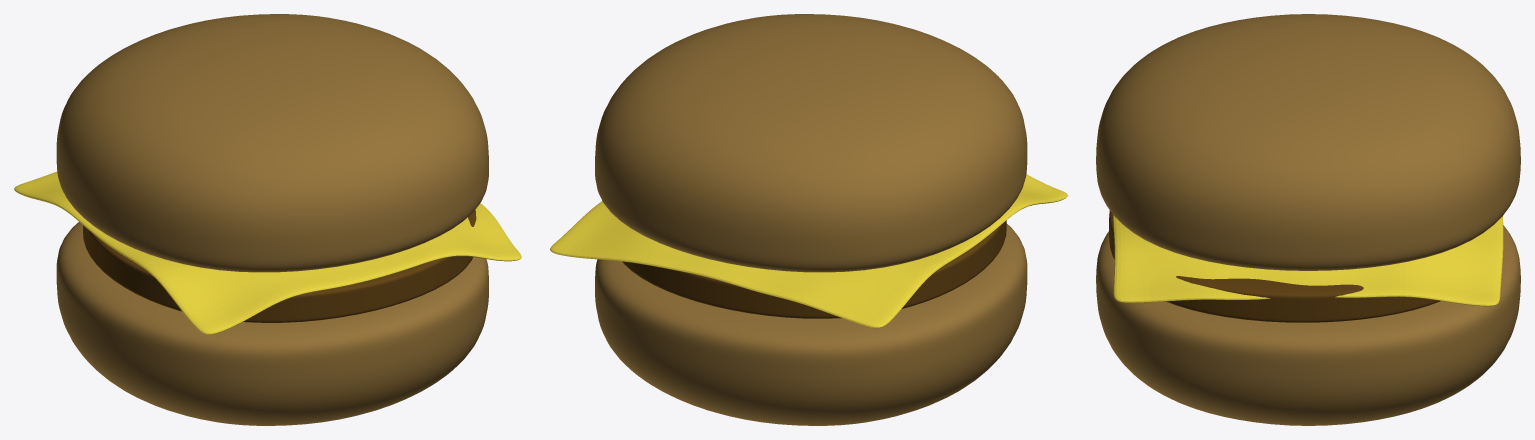
File: Hamburger.gltf
The picture shows the model from 3 angles, left to right: view 1: azimuth 30°, elevation 25°; view 2: azimuth 150°, elevation 25°; view 3: azimuth 270°, elevation 25°; orthographic projection.
Visible parts, largest first — view 1: Top Bun, Bottom Bun, Cheese, Patty; view 2: Top Bun, Bottom Bun, Cheese, Patty; view 3: Top Bun, Bottom Bun, Cheese, Patty.
Part boxes in pixels (left/top/right/bottom): Top Bun: left=56, top=14, right=488, bottom=272; Bottom Bun: left=56, top=222, right=488, bottom=425; Cheese: left=14, top=171, right=521, bottom=334; Patty: left=83, top=210, right=476, bottom=322; Top Bun: left=595, top=14, right=1027, bottom=272; Bottom Bun: left=595, top=223, right=1027, bottom=425; Cheese: left=550, top=174, right=1067, bottom=328; Patty: left=622, top=220, right=1006, bottom=318; Top Bun: left=1096, top=14, right=1520, bottom=270; Bottom Bun: left=1096, top=225, right=1520, bottom=425; Cheese: left=1113, top=215, right=1503, bottom=306; Patty: left=1109, top=210, right=1440, bottom=322.
Size of the model in its own units: 9.17 by 7.6 by 9.17.
